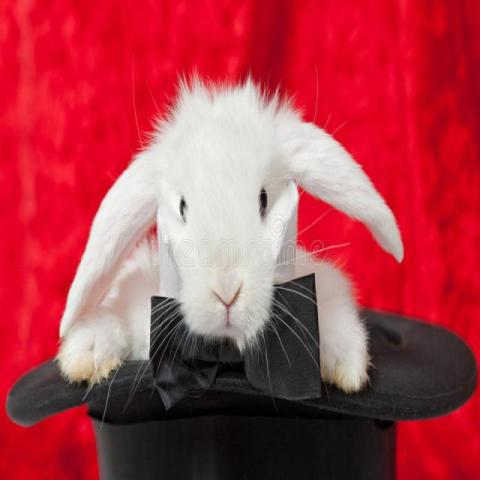small_animal: (54, 68, 406, 398)
